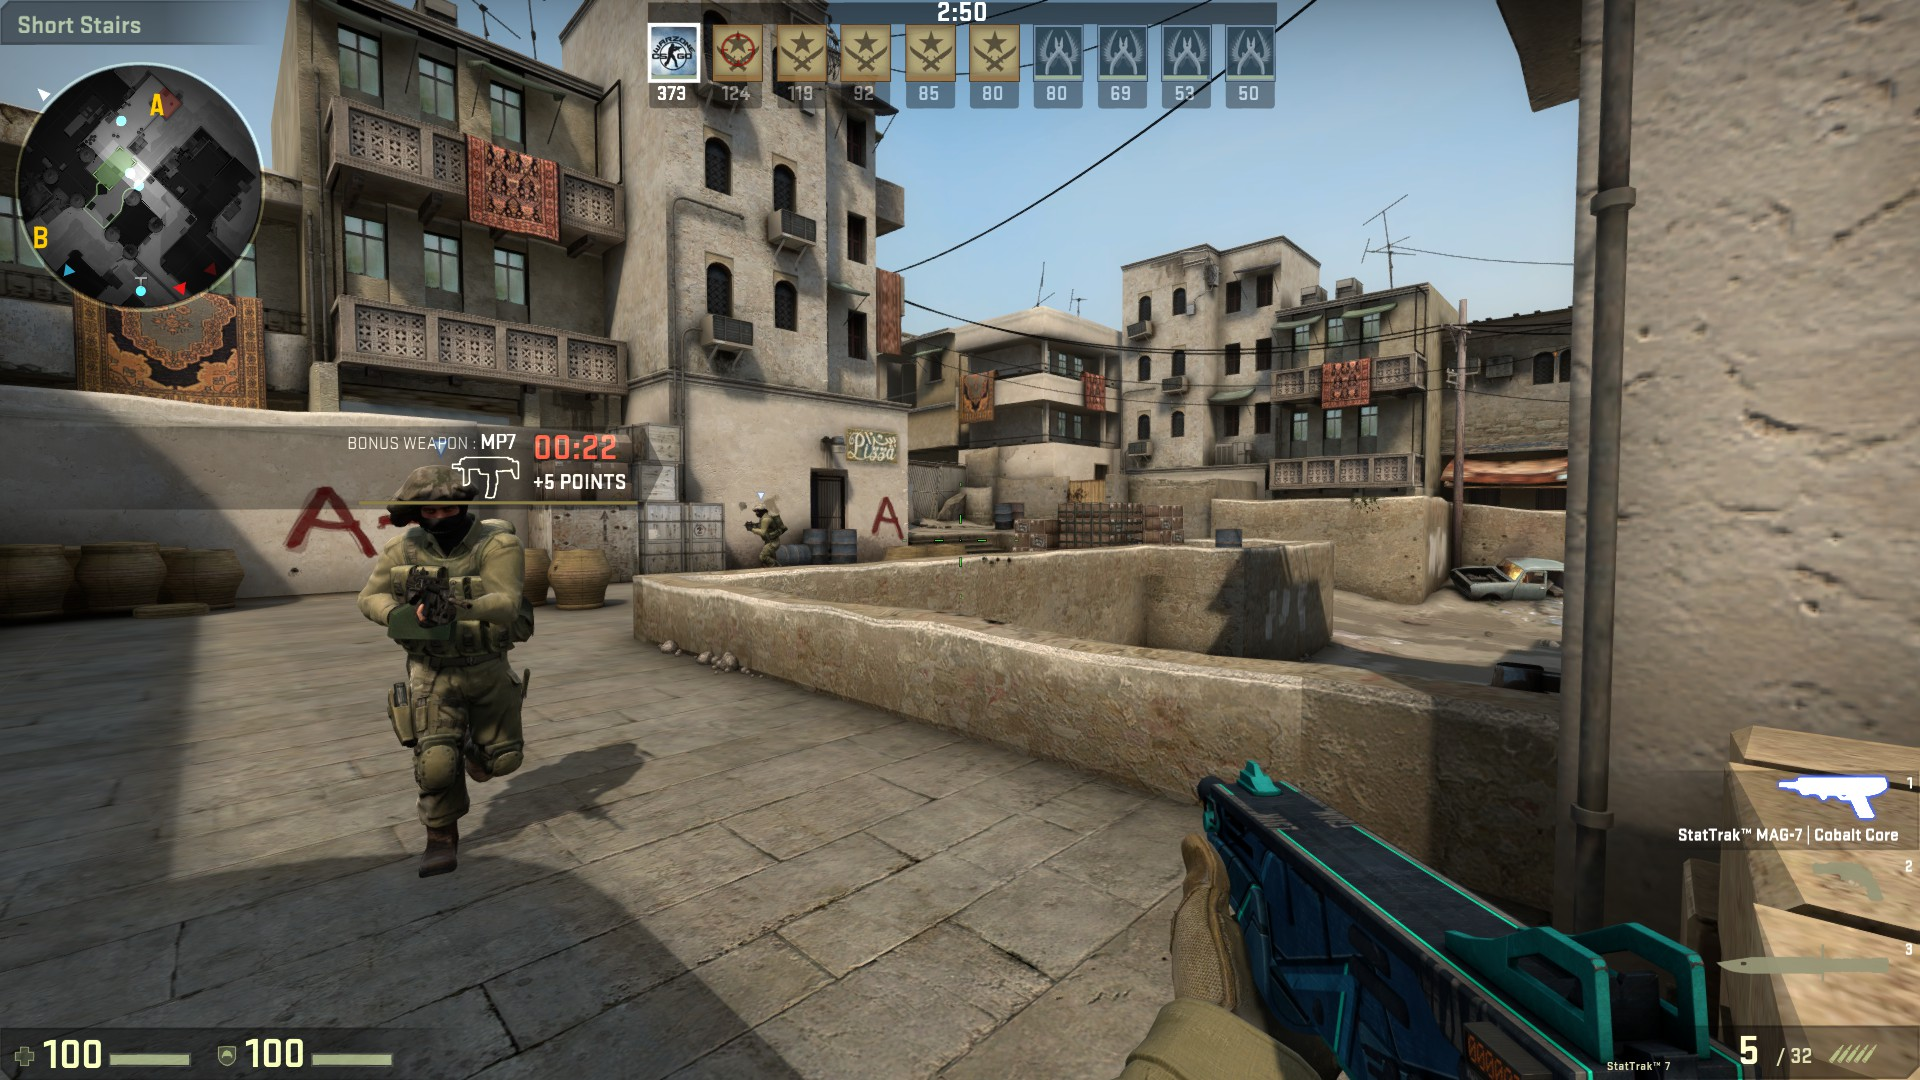c: (356, 451, 526, 866), (746, 504, 787, 572)
ch: (382, 465, 484, 562), (752, 504, 770, 520)
